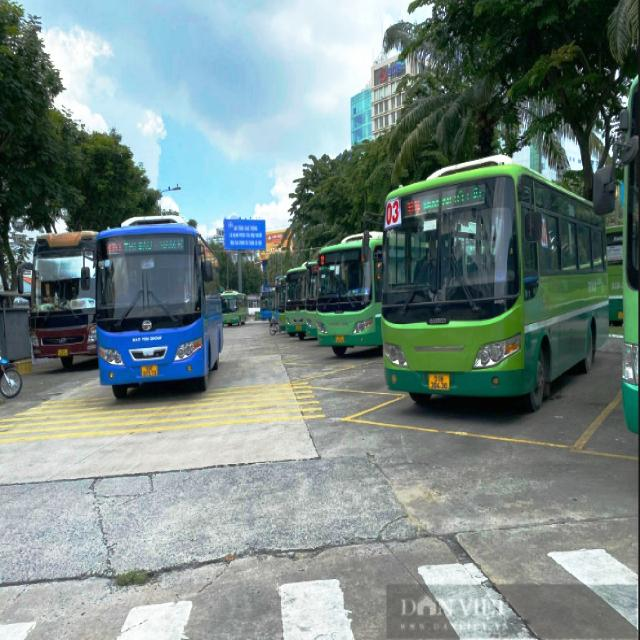Car: (389, 174, 616, 379), (100, 232, 210, 388), (28, 233, 94, 353), (320, 248, 376, 348), (623, 79, 639, 425), (288, 271, 303, 330)
